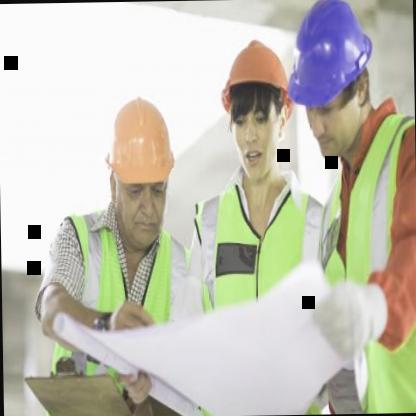helmet: (286, 0, 387, 165), (209, 23, 298, 186), (100, 80, 184, 250)
